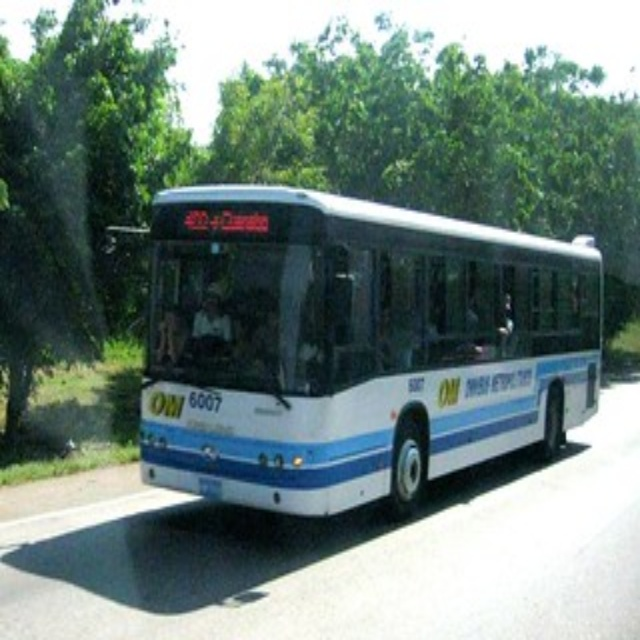Bus: (138, 184, 602, 523)
